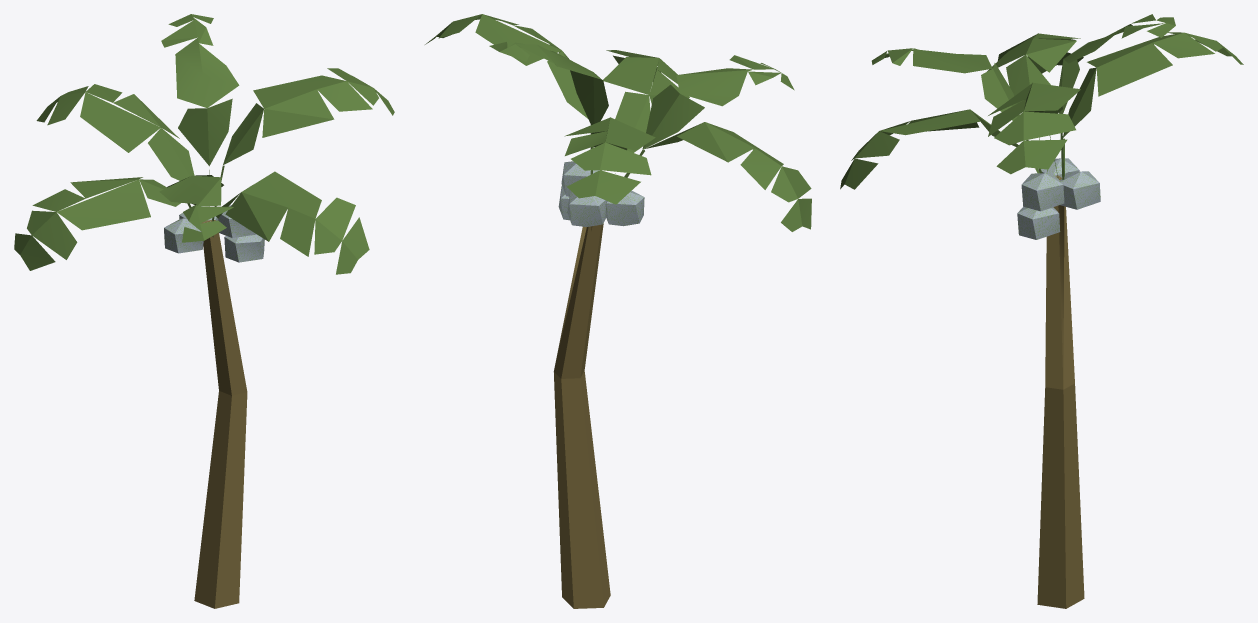
Rendered from Tree_Palm_Coconuts_04.fbx.
3 renders of one model, left to right at view 1: azimuth 30°, elevation 25°; view 2: azimuth 150°, elevation 25°; view 3: azimuth 270°, elevation 25°, orthographic. The views are drawn at different scales.
Parts seen in each view (by area): view 1: Model; view 2: Model; view 3: Model.
Boxes of the visible parts, bbox=[...] form: Model: bbox=[14, 14, 394, 608]; Model: bbox=[425, 14, 811, 608]; Model: bbox=[840, 14, 1243, 608].
Size of the model in its own units: 536 by 781 by 485.
